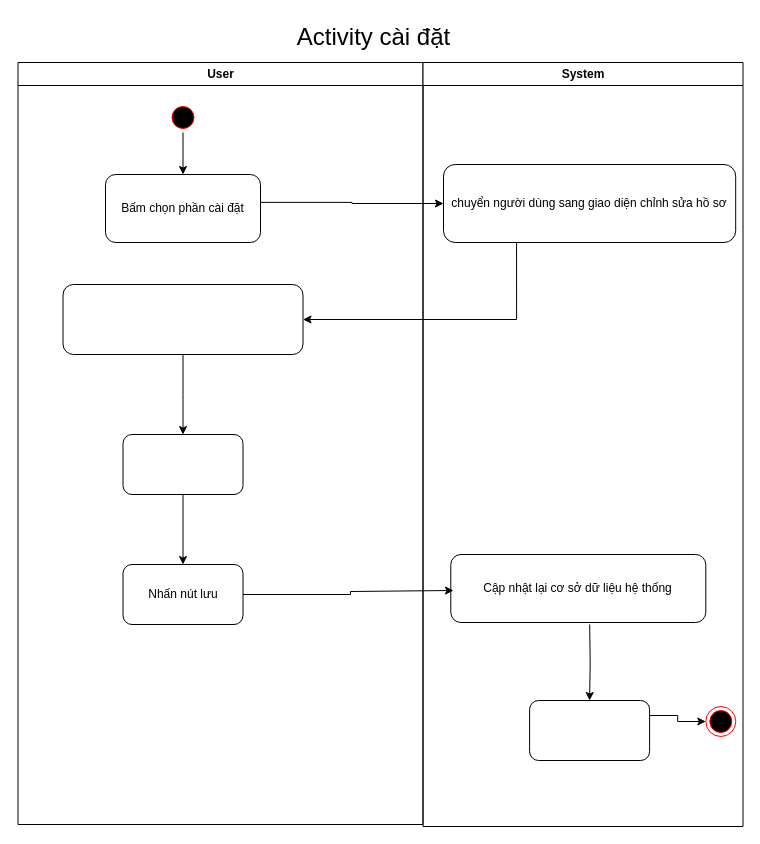
Some shapes in this 760 by 844 pixel diagram are drawn without their labels. The centre of each missing label's shape, as x and y in pixels:
Chọn phần thông tin cần chỉnh sửa: (182,319)
Sửa cài đặt: (182,464)
Thông báo lên màn hình lưu cài đặt thành công: (589,730)
